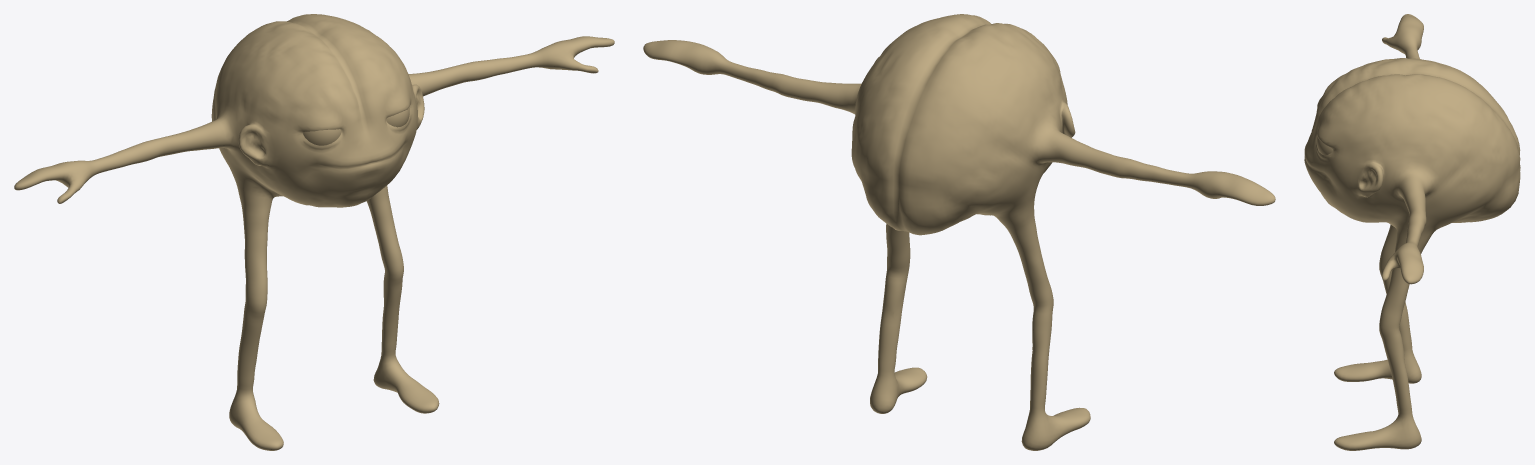
Rendered from SM_Cerveau.fbx.
3 renders of one model, left to right at view 1: azimuth 30°, elevation 25°; view 2: azimuth 150°, elevation 25°; view 3: azimuth 270°, elevation 25°, orthographic. The views are drawn at different scales.
Visible parts, largest first — view 1: Brain_uved_bugged; view 2: Brain_uved_bugged; view 3: Brain_uved_bugged.
Boxes of the visible parts, x1=… form: Brain_uved_bugged: x1=14, y1=14, x2=614, y2=450; Brain_uved_bugged: x1=643, y1=14, x2=1275, y2=450; Brain_uved_bugged: x1=1304, y1=14, x2=1520, y2=450.
Size of the model in its own units: 90.24 by 54.51 by 30.92.
